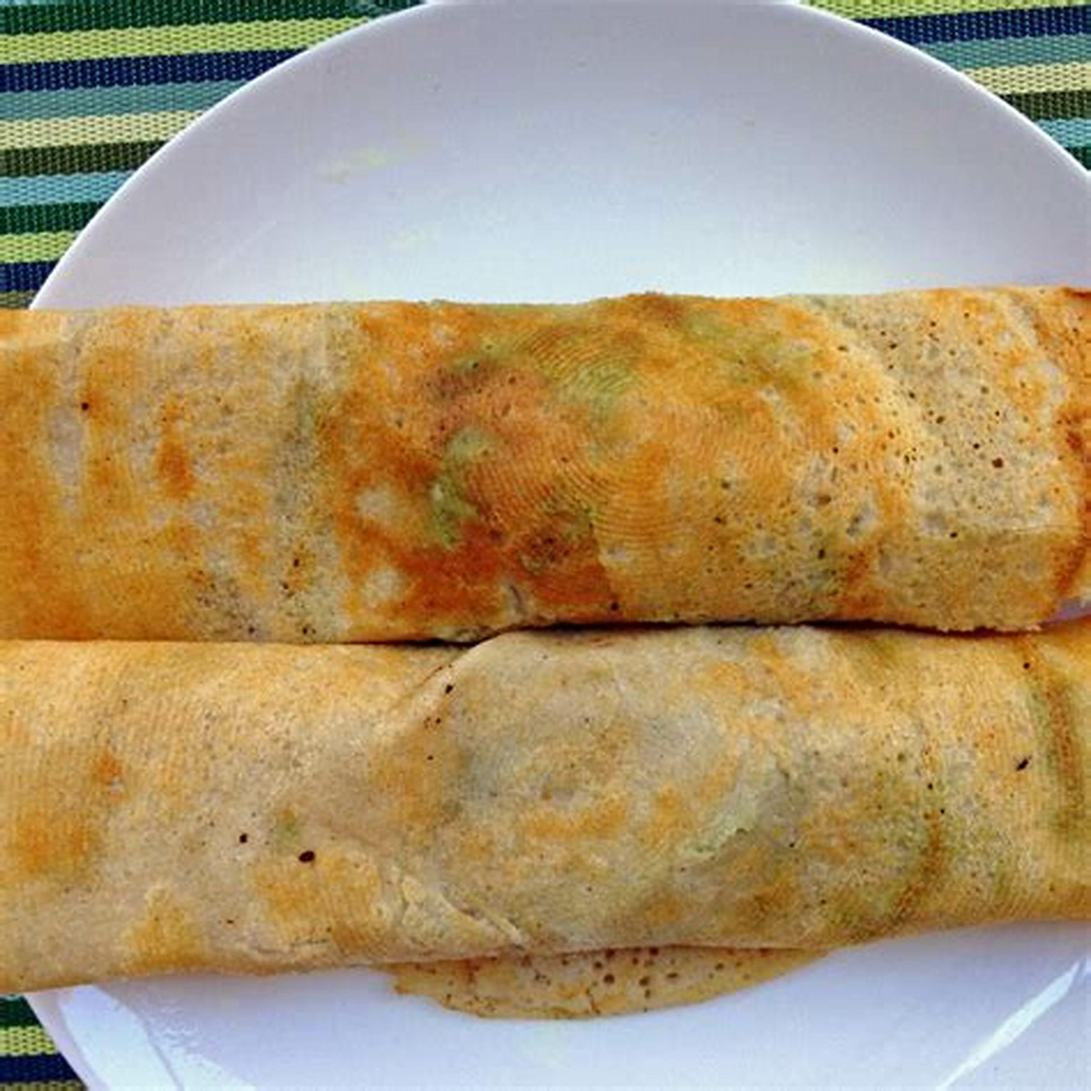Dosa: (1, 628, 1091, 1021), (1, 287, 1091, 633)
